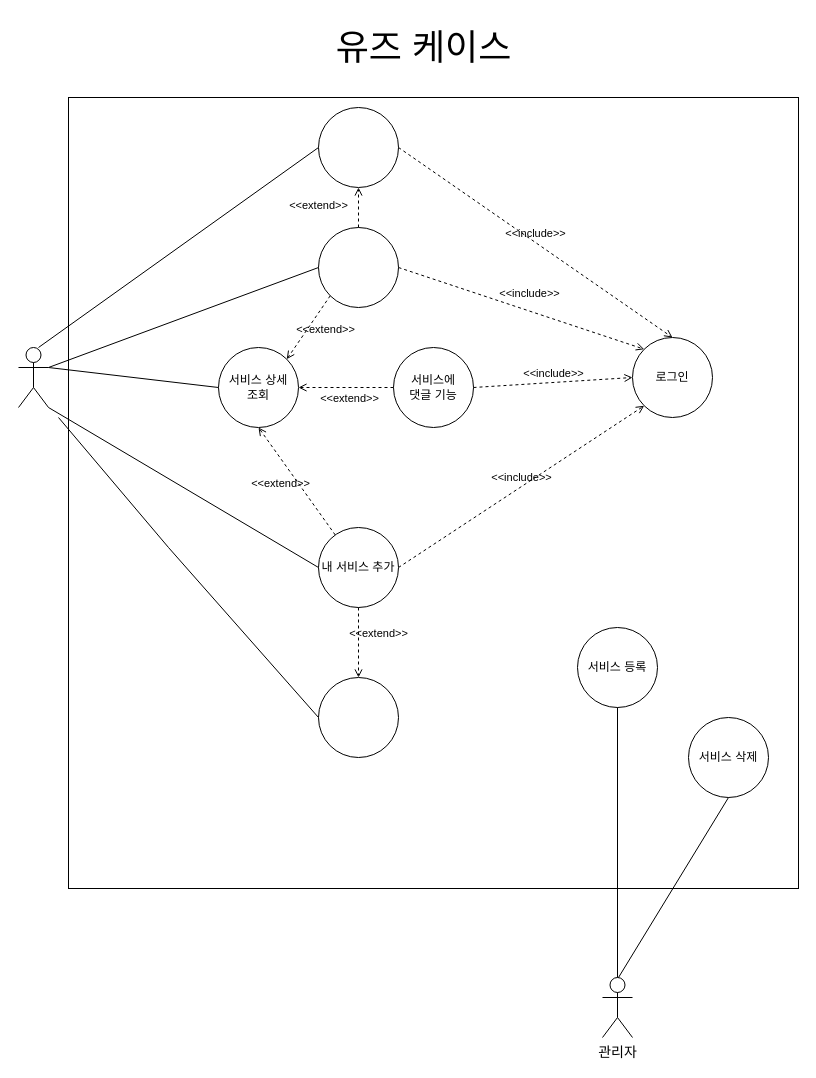
The diagram is 816 pixels wide and 1078 high, and some of its shapes have lost their labels. The box of each missing label's shape, as (x1, y1, x2, y2) in pixels:
Actor: (18, 346, 48, 408)
내 서비스 삭제: (318, 226, 398, 308)
내 서비스 조회: (318, 106, 398, 188)
서비스 조회: (318, 676, 398, 758)
